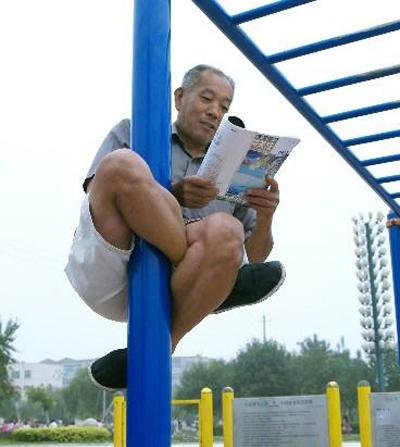person: (66, 64, 287, 396)
